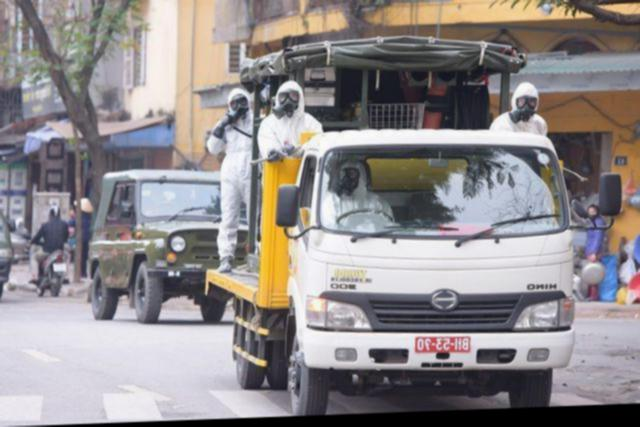License_Plate: (415, 336, 472, 355), (51, 262, 66, 274)
